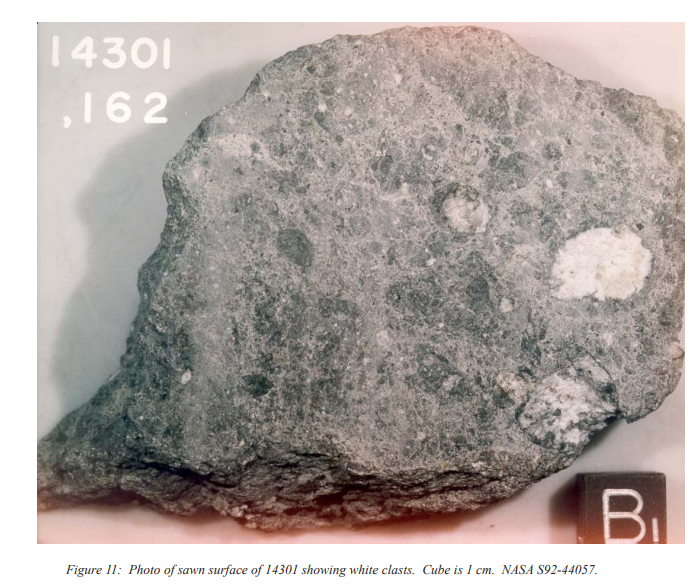Breccia: (46, 25, 692, 534), (204, 57, 629, 460), (65, 260, 536, 513), (451, 26, 680, 452)
